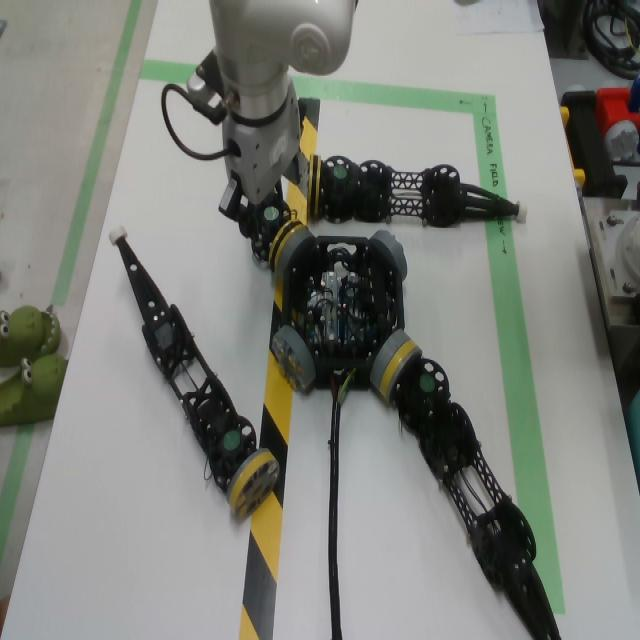body: (282, 236, 405, 391)
body_connector: (271, 325, 316, 393), (369, 329, 410, 389), (369, 231, 408, 281), (277, 227, 314, 277)
gripper: (218, 75, 307, 244)
leg: (380, 340, 563, 640), (108, 224, 278, 521), (307, 153, 528, 228), (248, 181, 306, 275)
leg_connector: (226, 448, 280, 520), (379, 340, 422, 400), (269, 220, 303, 273), (307, 153, 321, 223)
leg_marker: (223, 431, 240, 449), (420, 375, 434, 391), (264, 207, 279, 219), (334, 167, 347, 179)
